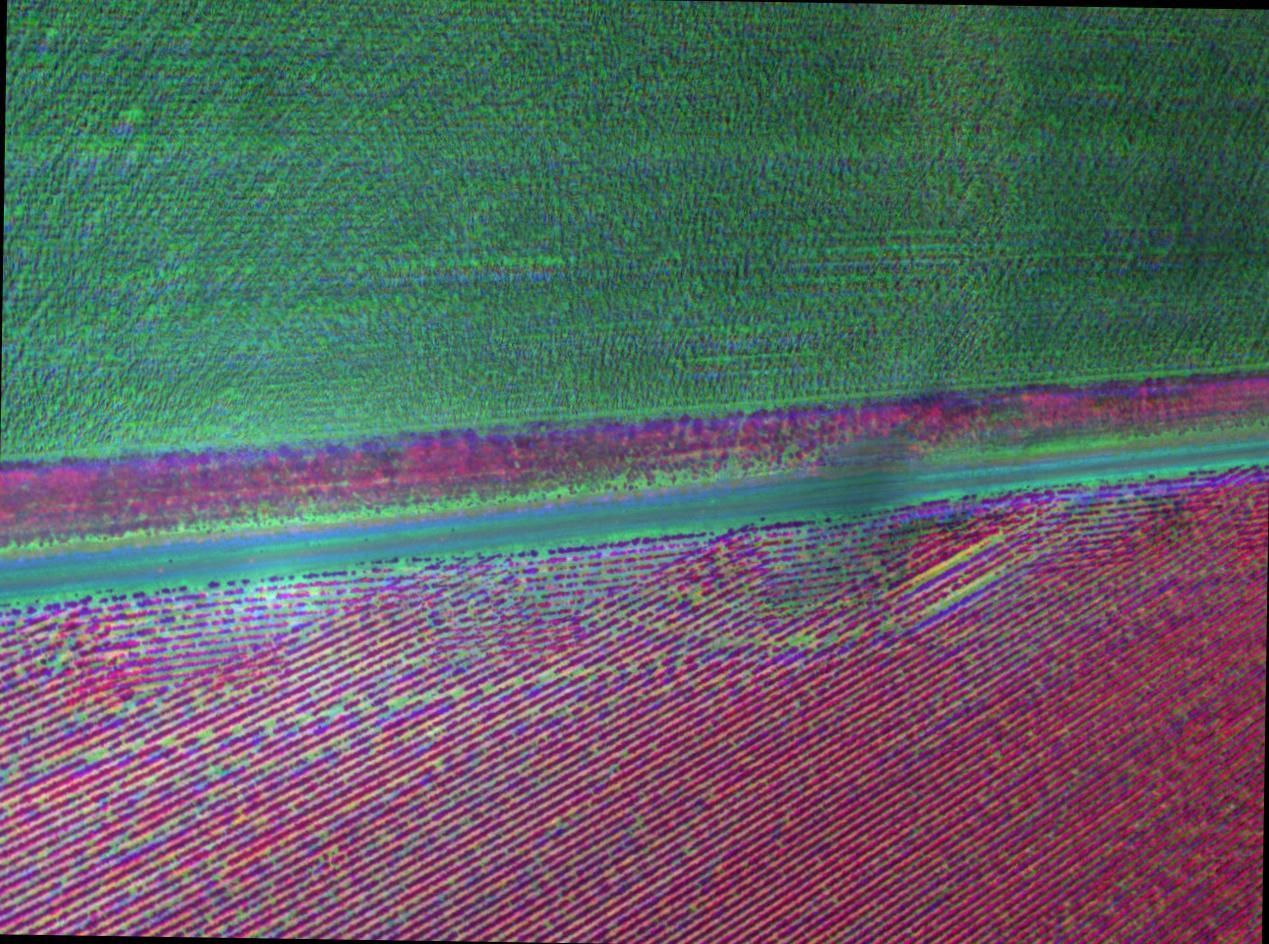dc: (792, 638, 801, 645), (333, 707, 340, 715), (202, 734, 209, 738)
